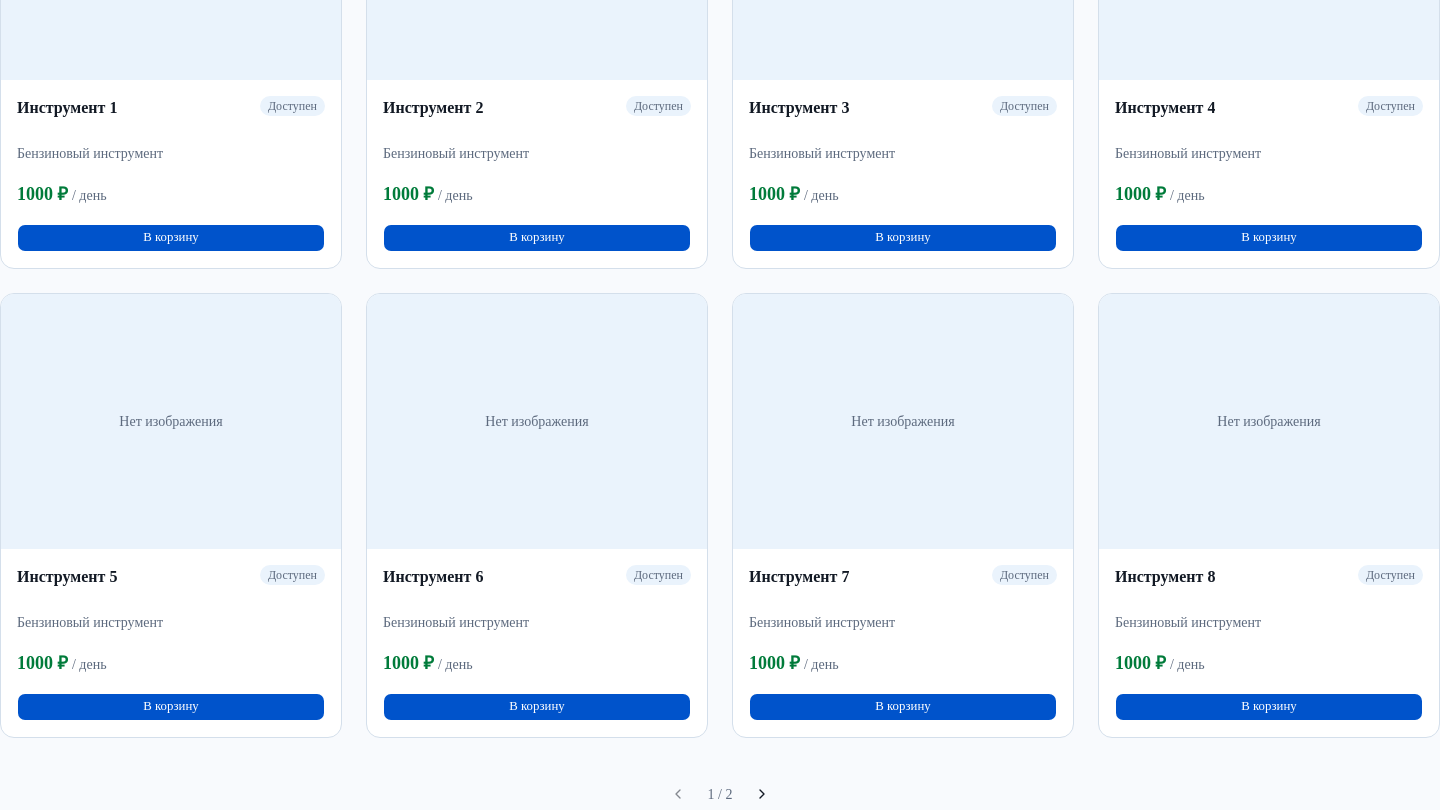
Test case: CatalogList › переключается на предыдущую страницу
The width and height of the screenshot is (1440, 810).
(page scrolled)
Click the button named "Следующая страница": (762, 794) x1=746 y1=778 x2=778 y2=809
(page scrolled)
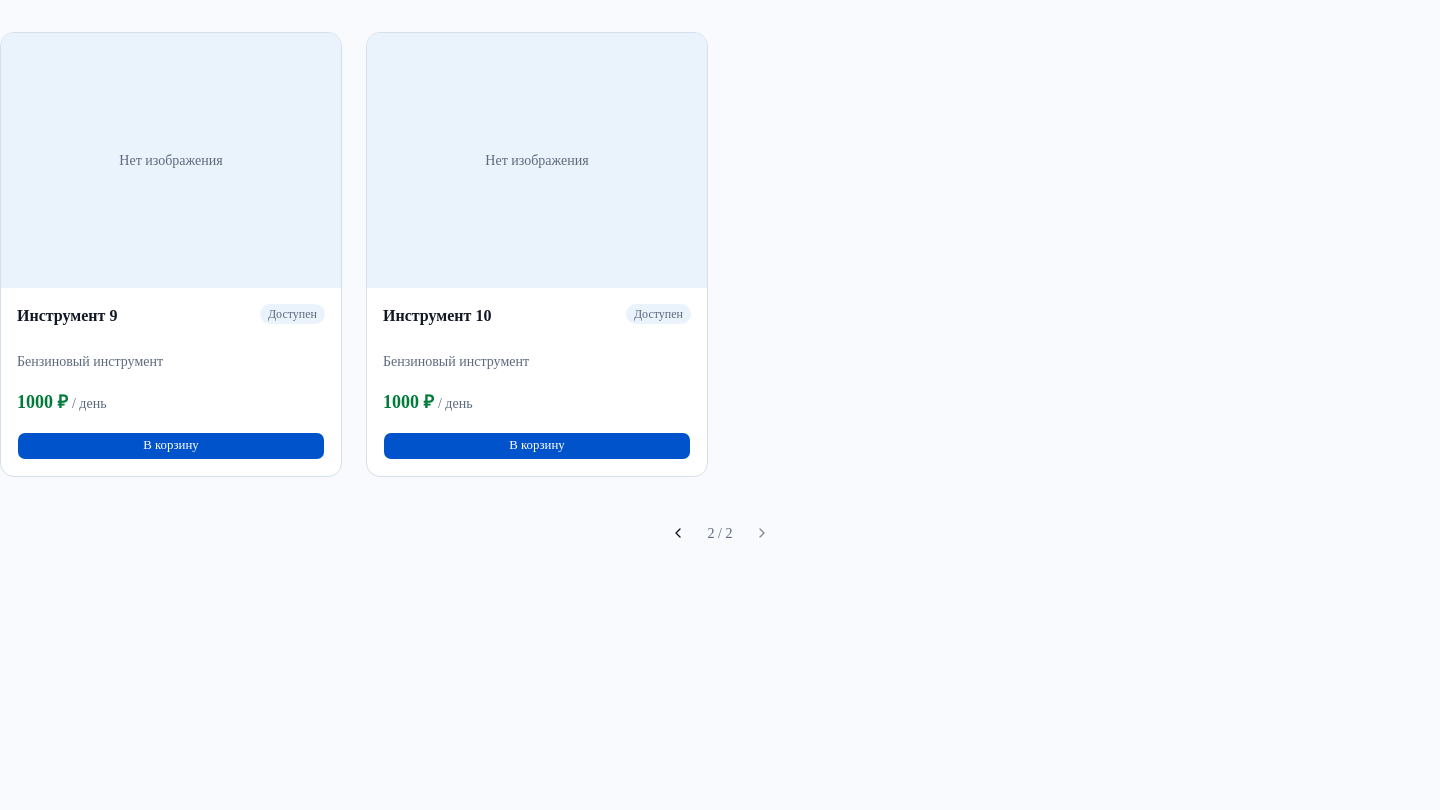
Click the button named "Предыдущая страница": (678, 533) x1=662 y1=517 x2=694 y2=549
(page scrolled)
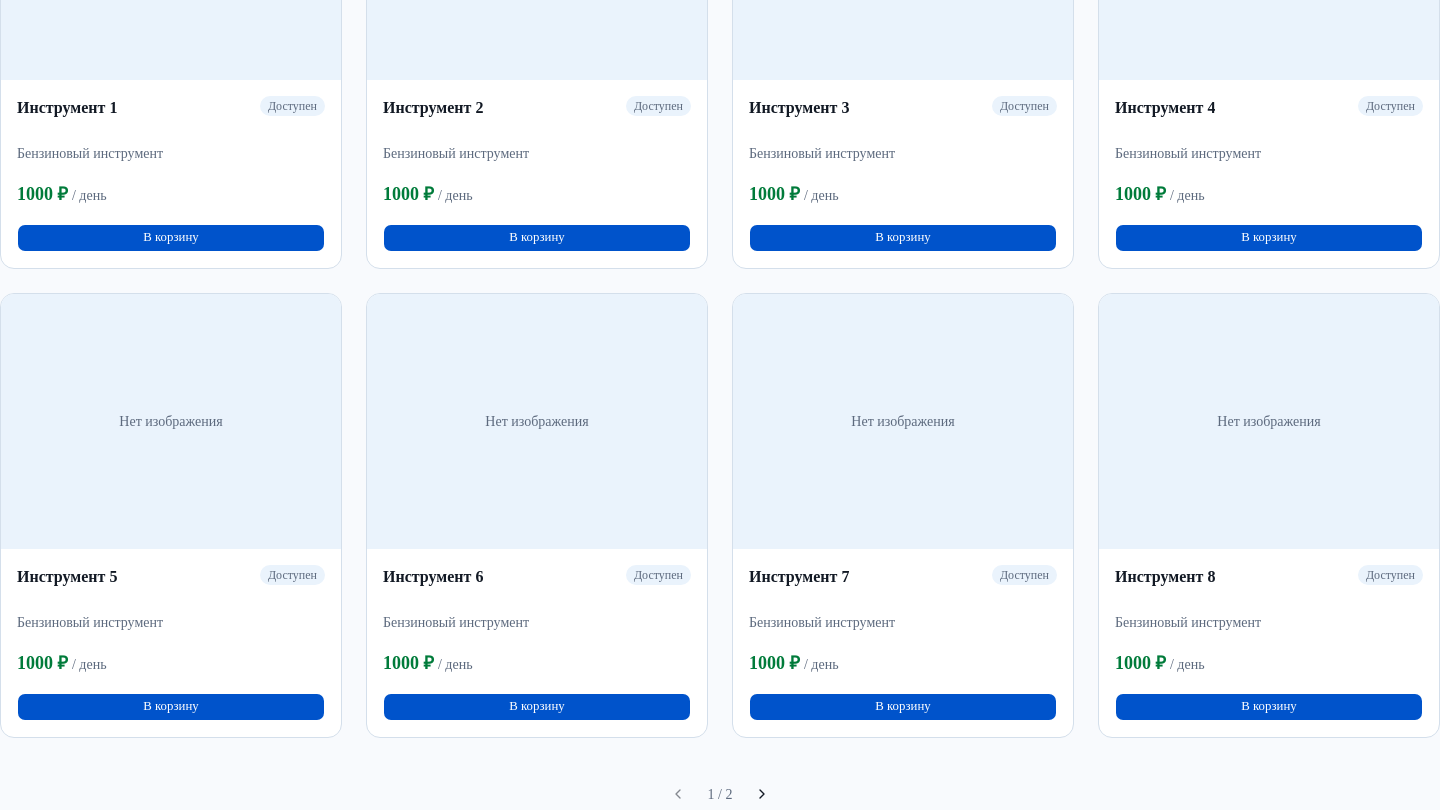
Now the text "1 / 2" is shown, box x1=708 y1=787 x2=732 y2=802
Now the heading "Инструмент 1" is shown, box x1=17 y1=99 x2=117 y2=116
Now the heading "Инструмент 8" is shown, box x1=1115 y1=568 x2=1215 y2=585
